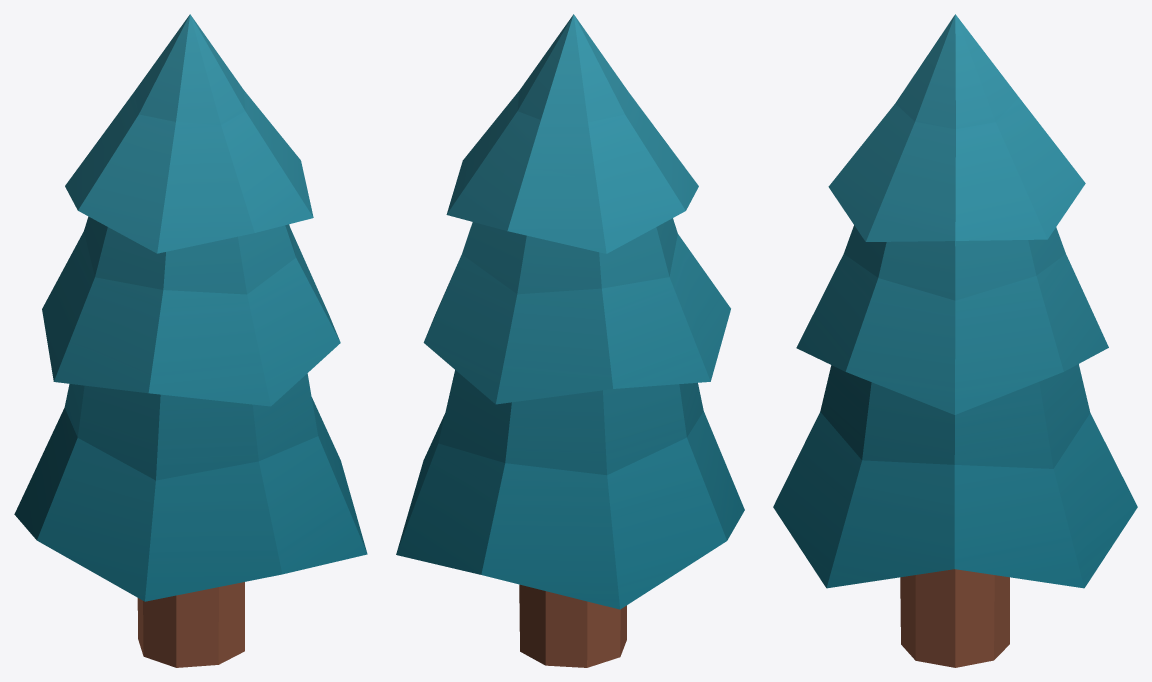
The model's file is Tree_01_gradient_blue.fbx.
3 renders of one model, left to right at view 1: azimuth 30°, elevation 25°; view 2: azimuth 150°, elevation 25°; view 3: azimuth 270°, elevation 25°, orthographic.
Visible parts, largest first — view 1: Tree_01_gradient_blue; view 2: Tree_01_gradient_blue; view 3: Tree_01_gradient_blue.
Boxes of the visible parts, x1=… form: Tree_01_gradient_blue: x1=14, y1=14, x2=367, y2=667; Tree_01_gradient_blue: x1=396, y1=14, x2=744, y2=667; Tree_01_gradient_blue: x1=773, y1=14, x2=1137, y2=667.
Bounding box in the file's own units: 83.22 × 165 × 86.78.
